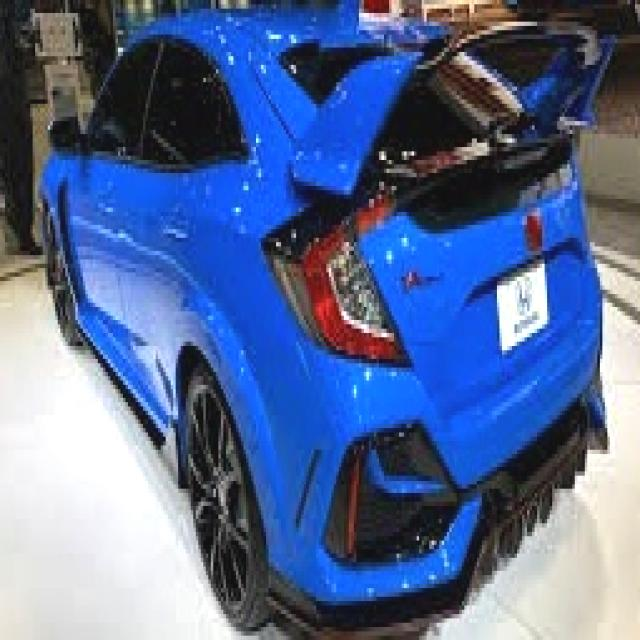blue: (32, 6, 616, 629)
